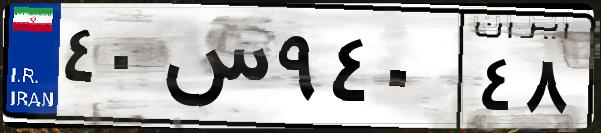0: (385, 28, 445, 110), (110, 28, 158, 98)
4: (330, 28, 385, 110), (57, 26, 110, 100), (475, 38, 525, 113)
8: (525, 38, 570, 115)
9: (270, 28, 330, 110)
س: (158, 20, 270, 120)
